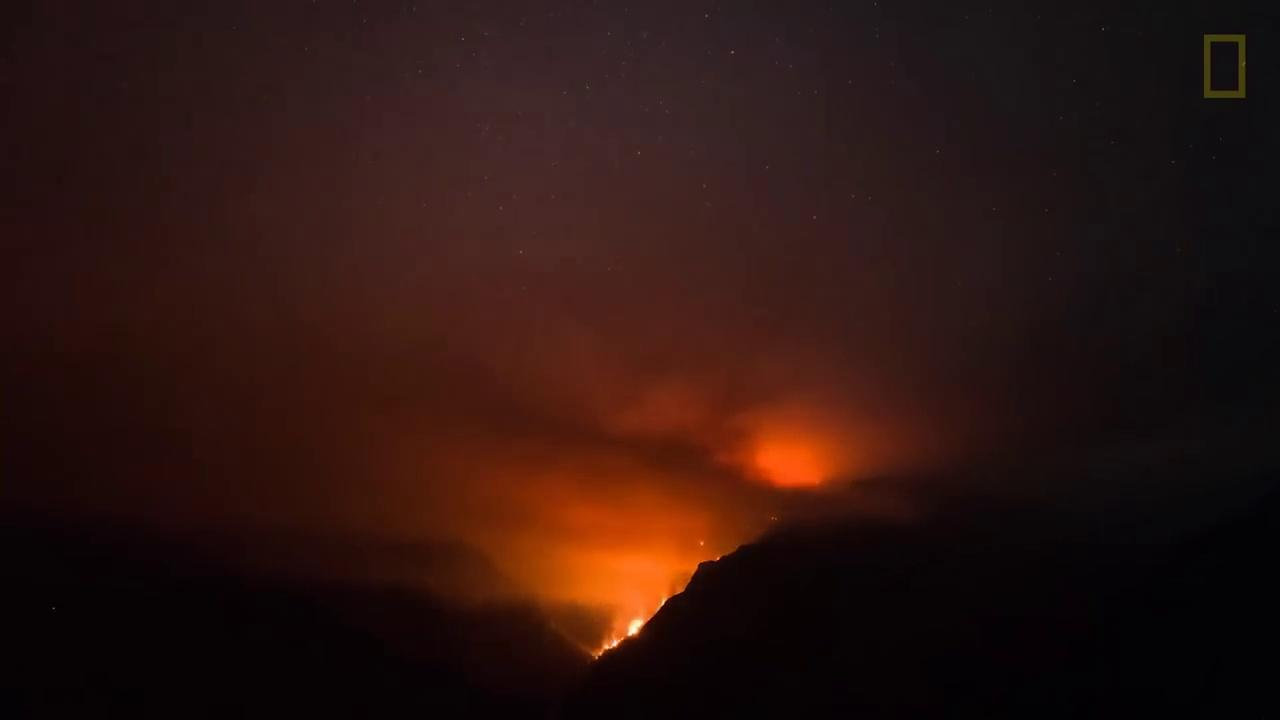Fire: (586, 596, 670, 657)
